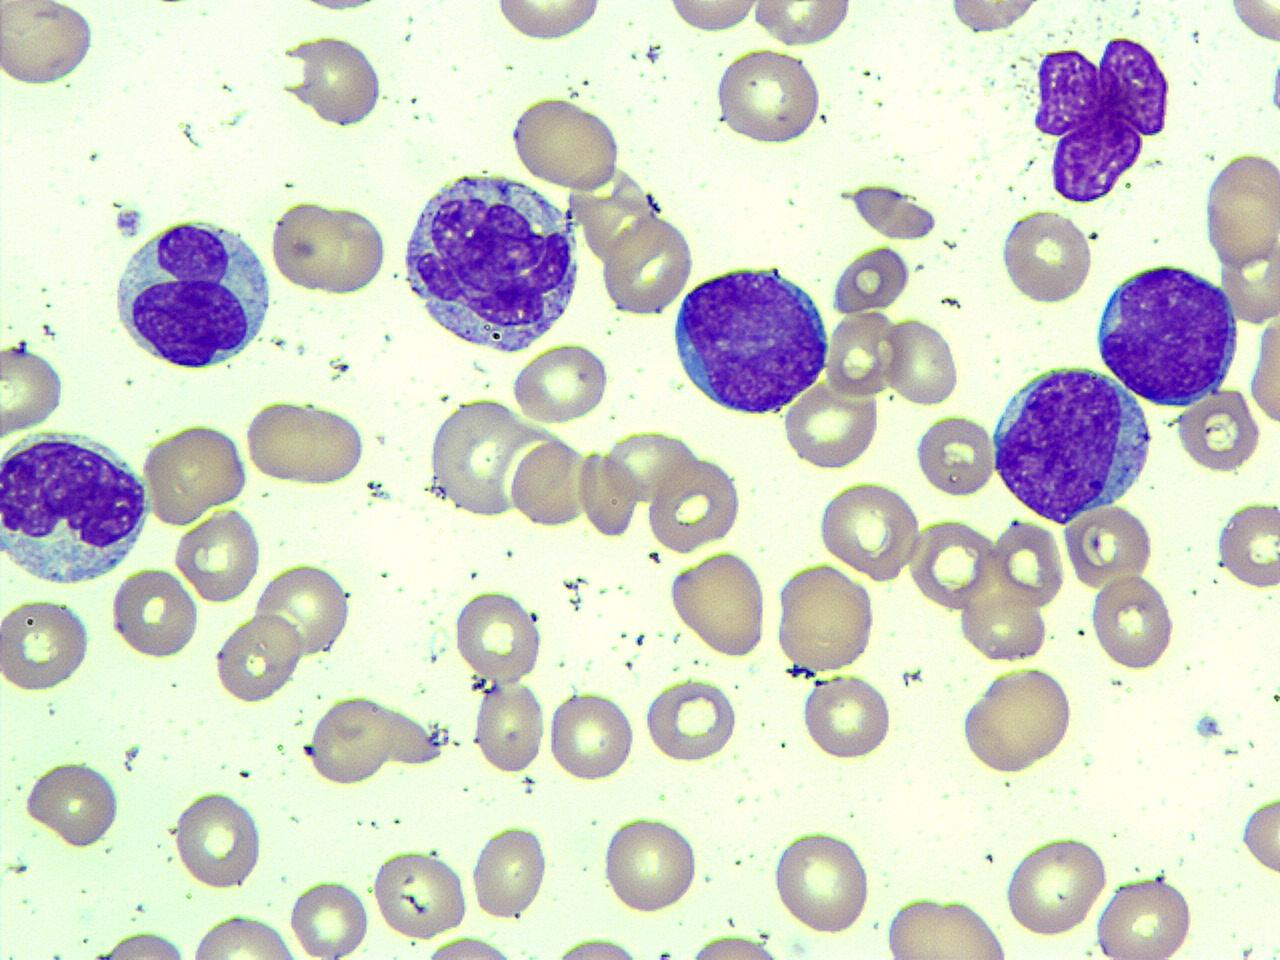Platelets: (111, 203, 145, 242), (1191, 710, 1225, 740), (1267, 57, 1280, 117), (783, 662, 818, 682), (644, 42, 662, 65), (785, 661, 806, 677), (302, 740, 316, 756)
RBC: (958, 662, 1076, 776), (141, 419, 250, 528), (768, 827, 876, 937), (432, 396, 527, 520), (774, 561, 878, 674), (1003, 832, 1111, 940), (242, 396, 367, 488), (273, 197, 390, 295), (508, 94, 624, 192), (713, 47, 825, 148), (668, 548, 769, 660), (816, 476, 922, 582), (600, 812, 702, 918), (252, 560, 354, 662), (644, 454, 744, 554), (285, 31, 385, 130), (996, 209, 1096, 308), (172, 787, 266, 892), (602, 210, 694, 317), (1200, 149, 1280, 271), (306, 694, 412, 786), (0, 592, 93, 694), (370, 847, 470, 941), (22, 757, 122, 851), (780, 378, 882, 469), (1093, 873, 1199, 960), (174, 504, 264, 606), (798, 670, 894, 764), (1088, 571, 1176, 673), (906, 516, 1000, 610), (213, 609, 304, 705), (110, 564, 200, 661), (642, 675, 740, 764), (510, 342, 612, 427), (451, 588, 541, 684), (546, 689, 636, 785), (0, 0, 99, 87), (882, 894, 1012, 960), (1060, 503, 1158, 590), (468, 820, 551, 921), (509, 434, 591, 530), (1178, 384, 1262, 477), (882, 312, 962, 408), (912, 410, 996, 499), (471, 678, 548, 775), (288, 874, 371, 960), (992, 515, 1066, 611), (958, 586, 1050, 662), (823, 310, 899, 400), (574, 444, 644, 540), (0, 342, 67, 437), (846, 178, 943, 243), (1216, 496, 1280, 591), (1220, 229, 1280, 326), (187, 909, 299, 959), (830, 245, 911, 314), (752, 0, 853, 48), (492, 0, 604, 43), (1247, 300, 1279, 439), (944, 0, 1046, 36), (664, 0, 763, 36), (1238, 794, 1280, 876), (97, 928, 198, 960), (680, 932, 790, 960), (419, 934, 528, 960), (1224, 0, 1280, 48)
WBC: (396, 164, 586, 359), (988, 358, 1157, 528), (105, 209, 276, 376), (1027, 27, 1179, 206), (668, 260, 834, 420), (0, 424, 154, 592), (1091, 258, 1239, 408)
